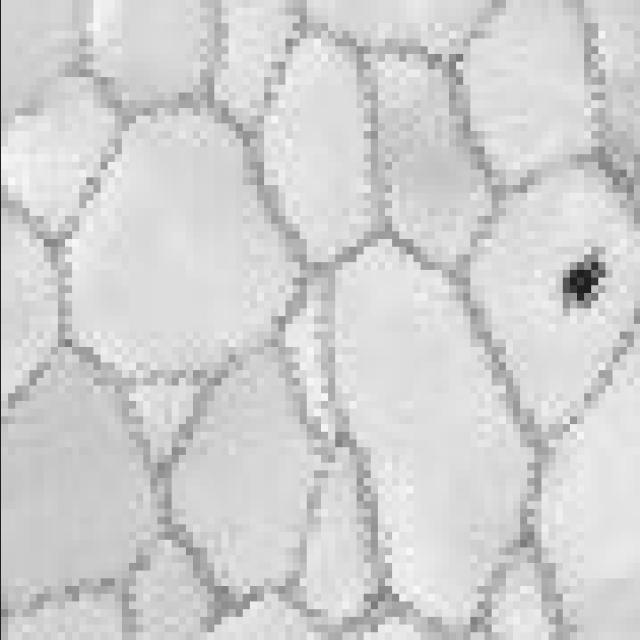good_void: (555, 241, 614, 315)
